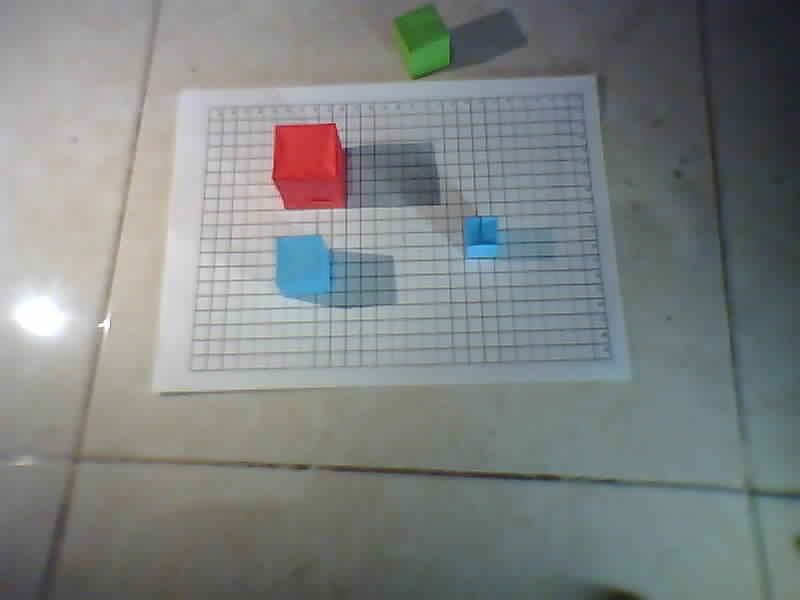LB: (186, 369, 194, 375)
LT: (205, 104, 213, 110)
RB: (606, 354, 614, 360)
RT: (578, 92, 586, 98)
